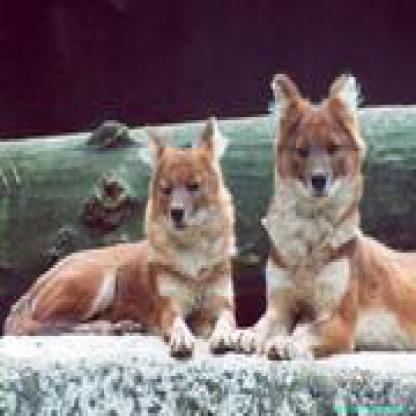dhole: (222, 68, 411, 360)
